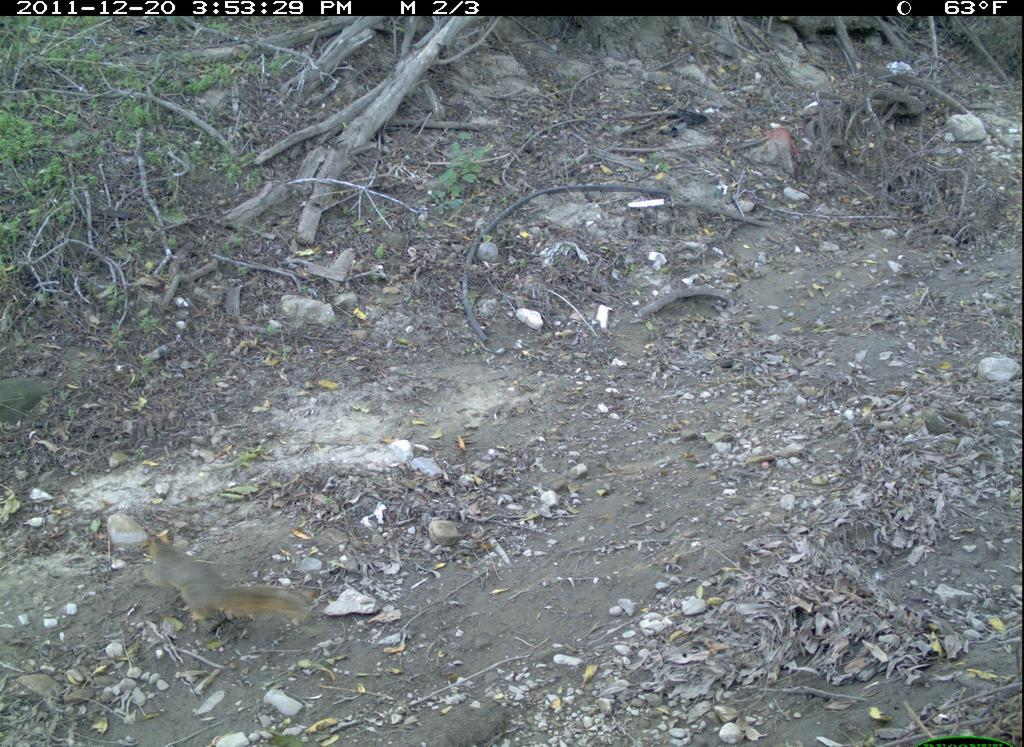squirrel: (135, 520, 318, 647)
